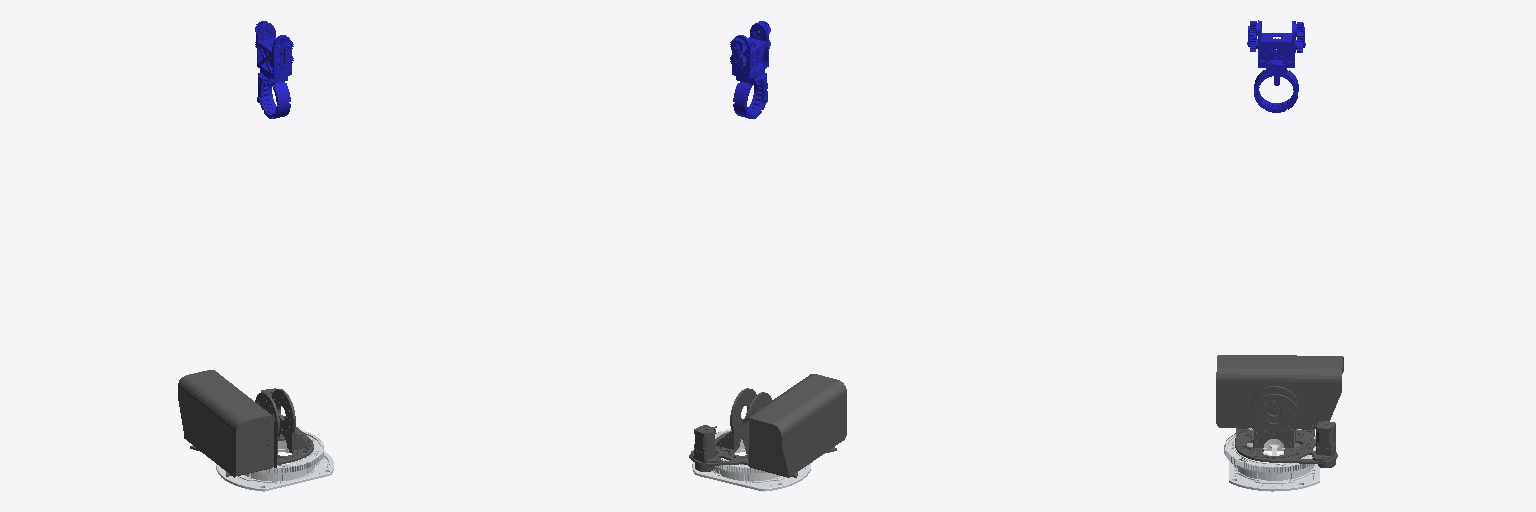
URDF robot description (ASTRA Arm):
<?xml version="1.0" encoding="utf-8"?>
<!-- This URDF was automatically created by SolidWorks to URDF Exporter! Originally created by [author] ([email redacted]) 
     Commit Version: 1.6.1-11-gaed57c3-dirty  Build Version: 1.6.9361.3070
     For more information, please see http://wiki.ros.org/sw_urdf_exporter -->
<robot
  name="ASTRA Arm">

  <link
    name="base_link">
    <inertial>
      <origin
        xyz="0.026661 -0.017083 -0.072681"
        rpy="0 0 0" />
      <mass
        value="1.344" />
      <inertia
        ixx="0.0071986"
        ixy="-1.8109E-06"
        ixz="-4.371E-06"
        iyy="0.0087125"
        iyz="1.3418E-07"
        izz="0.015884" />
    </inertial>
    <visual>
      <origin
        xyz="0 0 0"
        rpy="0 0 0" />
      <geometry>
        <mesh
          filename="package://rover_urdf_pkg/meshes/base_link.STL" />
      </geometry>
      <material
        name="">
        <color
          rgba="0.89804 0.91765 0.92941 1" />
      </material>
    </visual>
    <collision>
      <origin
        xyz="0 0 0"
        rpy="0 0 0" />
      <geometry>
        <mesh
          filename="package://rover_urdf_pkg/meshes/base_link.STL" />
      </geometry>
    </collision>
  </link>

  <link
    name="Axis 0 Plate">
    <inertial>
      <origin
        xyz="0.025635 0.047115 0.021109"
        rpy="0 0 0" />
      <mass
        value="2.045" />
      <inertia
        ixx="0.0097744"
        ixy="2.0744E-07"
        ixz="0.00060246"
        iyy="0.012437"
        iyz="-2.2545E-05"
        izz="0.00611" />
    </inertial>
    <visual>
      <origin
        xyz="0 0 0"
        rpy="0 0 0" />
      <geometry>
        <mesh
          filename="package://rover_urdf_pkg/meshes/Axis 0 Plate.STL" />
      </geometry>
      <material
        name="">
        <color
          rgba="0.4 0.4 0.4 1" />
      </material>
    </visual>
    <collision>
      <origin
        xyz="0 0 0"
        rpy="0 0 0" />
      <geometry>
        <mesh
          filename="package://rover_urdf_pkg/meshes/Axis 0 Plate.STL" />
      </geometry>
    </collision>
  </link>

  <joint
    name="Axis 0 Joint"
    type="revolute">
    <origin
      xyz="0.018772 -0.020734 -0.04971"
      rpy="1.5708 0 3.1115" />
    <parent
      link="base_link" />
    <child
      link="Axis 0 Plate" />
    <axis
      xyz="0 -1 0" />
    <limit
      lower="-3.14"
      upper="3.14"
      effort="0"
      velocity="0" />
  </joint>

  <link
    name="Axis 1 Segment">
    <inertial>
      <origin
        xyz="0.317731812584795 0.0226837932394467 -2.94234579792906E-05"
        rpy="0 0 0" />
      <mass
        value="2.10107115350287" />
      <inertia
        ixx="0.00185099460285527"
        ixy="-6.85595125576909E-06"
        ixz="-2.99093842113918E-07"
        iyy="0.00462248035875048"
        iyz="2.91093713403385E-07"
        izz="0.00297641069201651" />
    </inertial>
    <visual>
      <origin
        xyz="0 0 0"
        rpy="0 0 0" />
      <geometry>
        <mesh
          filename="package://rover_urdf_pkg/meshes/Axis 1 Segment.STL" />
      </geometry>
      <material
        name="">
        <color
          rgba="0.8 0.2 0.2 1" />
      </material>
    </visual>
    <collision>
      <origin
        xyz="0 0 0"
        rpy="0 0 0" />
      <geometry>
        <mesh
          filename="package://rover_urdf_pkg/meshes/Axis 1 Segment.STL" />
      </geometry>
    </collision>
  </link>

  <joint
    name="Axis 1 Joint"
    type="revolute">
    <origin
      xyz="-0.0271654135185528 0.0927245490180083 0.00384109909109076"
      rpy="-3.14159265358977 -0.00524713054608625 1.5707963267949" />
    <parent
      link="Axis 0 Plate" />
    <child
      link="Axis 1 Segment" />
    <axis
      xyz="0 -1 0" />
    <limit
      lower="-1.05"
      upper="1.6"
      effort="0"
      velocity="0" />
  </joint>

  <link
    name="Axis 2 Segment">
    <inertial>
      <origin
        xyz="0.179701426719665 -0.0176131583689303 5.71147464441535E-05"
        rpy="0 0 0" />
      <mass
        value="3.13644489009951" />
      <inertia
        ixx="0.00172062005671382"
        ixy="1.49995165753112E-05"
        ixz="3.0146547850231E-07"
        iyy="0.00419573957161135"
        iyz="2.86281305896603E-07"
        izz="0.00280821030835127" />
    </inertial>
    <visual>
      <origin
        xyz="0 0 0"
        rpy="0 0 0" />
      <geometry>
        <mesh
          filename="package://rover_urdf_pkg/meshes/Axis 2 Segment.STL" />
      </geometry>
      <material
        name="">
        <color
          rgba="0.2 0.8 0.2 1" />
      </material>
    </visual>
    <collision>
      <origin
        xyz="0 0 0"
        rpy="0 0 0" />
      <geometry>
        <mesh
          filename="package://rover_urdf_pkg/meshes/Axis 2 Segment.STL" />
      </geometry>
    </collision>
  </link>

  <joint
    name="Axis 2 Joint"
    type="revolute">
    <origin
      xyz="0.470027000000004 0.0126999999999999 0"
      rpy="3.14159265358979 0.000449358059257729 0" />
    <parent
      link="Axis 1 Segment" />
    <child
      link="Axis 2 Segment" />
    <axis
      xyz="0 -1 0" />
    <limit
      lower="-2.0"
      upper="2.0"
      effort="0"
      velocity="0" />
  </joint>

  <link
    name="Wrist">
    <inertial>
      <origin
        xyz="0.0258890113931529 -0.0205223442970055 6.01641698143966E-05"
        rpy="0 0 0" />
      <mass
        value="1.95105877103309" />
      <inertia
        ixx="0.00117490634970832"
        ixy="8.14355696873965E-06"
        ixz="2.37060433355634E-09"
        iyy="0.0025492938141431"
        iyz="-4.81227026285992E-09"
        izz="0.00159235737231991" />
    </inertial>
    <visual>
      <origin
        xyz="0 0 0"
        rpy="0 0 0" />
      <geometry>
        <mesh
          filename="package://rover_urdf_pkg/meshes/Wrist.STL" />
      </geometry>
      <material
        name="">
        <color
          rgba="0.2 0.2 0.8 1" />
      </material>
    </visual>
    <collision>
      <origin
        xyz="0 0 0"
        rpy="0 0 0" />
      <geometry>
        <mesh
          filename="package://rover_urdf_pkg/meshes/Wrist.STL" />
      </geometry>
    </collision>
  </link>

  <joint
    name="Axis 3 Joint"
    type="revolute">
    <origin
      xyz="0.393826999999998 0 0"
      rpy="0 -0.000409495780687665 0" />
    <parent
      link="Axis 2 Segment" />
    <child
      link="Wrist" />
    <axis
      xyz="0 -1 0" />
    <limit
      lower="-1.6"
      upper="1.9"
      effort="0"
      velocity="0" />
  </joint>

  <link
    name="Diff Carrier">
    <inertial>
      <origin
        xyz="-8.64620358677695E-06 -0.00516792807449162 -7.22608790769408E-07"
        rpy="0 0 0" />
      <mass
        value="0.0655351660884378" />
      <inertia
        ixx="1.65846526943977E-05"
        ixy="3.62206129298215E-09"
        ixz="5.09422122565314E-10"
        iyy="4.25479683866677E-05"
        iyz="2.86164802173259E-10"
        izz="3.87760449919773E-05" />
    </inertial>
    <visual>
      <origin
        xyz="0 0 0"
        rpy="0 0 0" />
      <geometry>
        <mesh
          filename="package://rover_urdf_pkg/meshes/Diff Carrier.STL" />
      </geometry>
      <material
        name="">
        <color
          rgba="0.96 0.82 0.01 1" />
      </material>
    </visual>
    <collision>
      <origin
        xyz="0 0 0"
        rpy="0 0 0" />
      <geometry>
        <mesh
          filename="package://rover_urdf_pkg/meshes/Diff Carrier.STL" />
      </geometry>
    </collision>
  </link>

  <joint
    name="Wrist Differential Joint"
    type="revolute">
    <origin
      xyz="0.176692001200001 -0.00622300000004081 0"
      rpy="-3.05263944120951 1.57079631189374 1.65994236547327" />
    <parent
      link="Wrist" />
    <child
      link="Diff Carrier" />
    <axis
      xyz="-1 0 0" />
    <limit
      lower="-1.6"
      upper="1.6"
      effort="0"
      velocity="0" />
  </joint>

  <link
    name="End Effector">
    <inertial>
      <origin
        xyz="-0.00327558376591462 0.00327411156667146 -0.0553569354578649"
        rpy="0 0 0" />
      <mass
        value="0.397605677640027" />
      <inertia
        ixx="0.000631368000075726"
        ixy="-1.01357929540856E-09"
        ixz="-3.06601632900158E-06"
        iyy="0.000105800099414061"
        iyz="2.32813748604228E-09"
        izz="0.000592001119919064" />
    </inertial>
    <visual>
      <origin
        xyz="0 0 0"
        rpy="0 0 0" />
      <geometry>
        <mesh
          filename="package://rover_urdf_pkg/meshes/End Effector.STL" />
      </geometry>
      <material
        name="">
        <color
          rgba="0.01 0.82 0.96 1" />
      </material>
    </visual>
    <collision>
      <origin
        xyz="0 0 0"
        rpy="0 0 0" />
      <geometry>
        <mesh
          filename="package://rover_urdf_pkg/meshes/End Effector.STL" />
      </geometry>
    </collision>
  </link>

  <joint
    name="Wrist-EF Roll Joint"
    type="continuous">
    <origin
      xyz="0 0.01 0"
      rpy="-1.5708 -0.21566 -3.1416" />
    <parent
      link="Diff Carrier" />
    <child
      link="End Effector" />
    <axis
      xyz="0 0 1" />
  </joint>

  <link
    name="EF Gripper Right">
    <inertial>
      <origin
        xyz="3.60822483003176E-16 0.0395187564799554 -0.0785892929086096"
        rpy="0 0 0" />
      <mass
        value="0.0859306256217421" />
      <inertia
        ixx="8.1015302646778E-05"
        ixy="2.5410988417629E-21"
        ixz="3.75123099070348E-19"
        iyy="8.51028632685389E-05"
        iyz="1.00631950096307E-08"
        izz="5.50169350148622E-06" />
    </inertial>
    <visual>
      <origin
        xyz="0 0 0"
        rpy="0 0 0" />
      <geometry>
        <mesh
          filename="package://rover_urdf_pkg/meshes/EF Gripper Right.STL" />
      </geometry>
      <material
        name="">
        <color
          rgba="0.8 0.8 0.8 1" />
      </material>
    </visual>
    <collision>
      <origin
        xyz="0 0 0"
        rpy="0 0 0" />
      <geometry>
        <mesh
          filename="package://rover_urdf_pkg/meshes/EF Gripper Right.STL" />
      </geometry>
    </collision>
  </link>

  <joint
    name="Gripper Slider Right"
    type="prismatic">
    <origin
      xyz="0 0 -0.031677"
      rpy="0 0 3.1416" />
    <parent
      link="End Effector" />
    <child
      link="EF Gripper Right" />
    <axis
      xyz="0 1 0" />
    <limit
      lower="-0.025"
      upper="0.04"
      effort="0"
      velocity="0" />
  </joint>

  <link
    name="EF Gripper Left">
    <inertial>
      <origin
        xyz="0.000260261090099842 0.0391877753208171 -0.0810862651363518"
        rpy="0 0 0" />
      <mass
        value="0.0813132558225319" />
      <inertia
        ixx="7.92230074239095E-05"
        ixy="8.60239969339994E-10"
        ixz="-3.27617434511821E-07"
        iyy="8.29877943429396E-05"
        iyz="9.84609377733742E-09"
        izz="4.98027032334885E-06" />
    </inertial>
    <visual>
      <origin
        xyz="0 0 0"
        rpy="0 0 0" />
      <geometry>
        <mesh
          filename="package://rover_urdf_pkg/meshes/EF Gripper Left.STL" />
      </geometry>
      <material
        name="">
        <color
          rgba="0.8 0.8 0.8 1" />
      </material>
    </visual>
    <collision>
      <origin
        xyz="0 0 0"
        rpy="0 0 0" />
      <geometry>
        <mesh
          filename="package://rover_urdf_pkg/meshes/EF Gripper Left.STL" />
      </geometry>
    </collision>
  </link>

  <joint
    name="Gripper Slider Left"
    type="prismatic">
    <origin
      xyz="0 0 -0.031677"
      rpy="0 0 0" />
    <parent
      link="End Effector" />
    <child
      link="EF Gripper Left" />
    <axis
      xyz="0 -1 0" />
    <limit
      lower="-0.04"
      upper="0.025"
      effort="0"
      velocity="0" />
  </joint>

</robot>

--- What the picture shows (computed from the rendered views, not written in the file) ---
Views: 3 orthographic renders of the robot side by side, from view 1: azimuth 30°, elevation 25°; view 2: azimuth 150°, elevation 25°; view 3: azimuth 270°, elevation 25°.
Robot: ASTRA Arm — 9 links, 8 joints (5 revolute, 1 continuous, 2 prismatic); root link base_link; default pose: every joint at zero.
Links seen in each view (by area): view 1: Axis 0 Plate, Wrist, base_link; view 2: Axis 0 Plate, Wrist, base_link; view 3: Axis 0 Plate, base_link, Wrist.
Boxes of the visible links, x1,y1,x2,y2 form: Axis 0 Plate: (178,370,313,477); Wrist: (255,21,293,118); base_link: (216,430,333,491); Axis 0 Plate: (689,374,846,477); Wrist: (730,21,770,118); base_link: (692,429,810,491); Axis 0 Plate: (1216,355,1343,467); base_link: (1224,428,1319,491); Wrist: (1247,20,1305,112).
Size in the robot's own frame: 0.3367 by 0.3081 by 1.19 metres.
3 mesh visuals loaded from 9 distinct referenced files (3 binary STL); not drawn: 6 (reference not matched to a file when rendering).